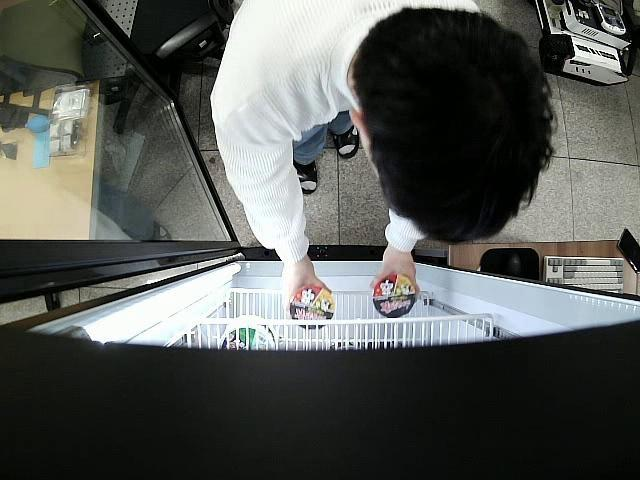08_buldak_S: (290, 285, 334, 329), (372, 274, 417, 317)
